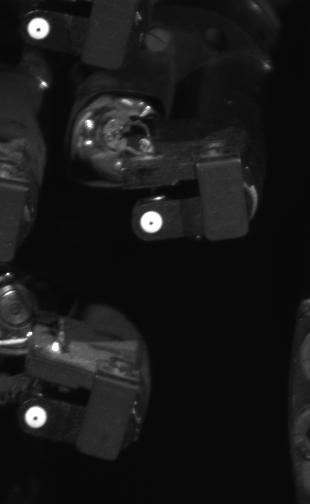fiber: (136, 203, 168, 241), (20, 14, 57, 44), (22, 402, 56, 433)
